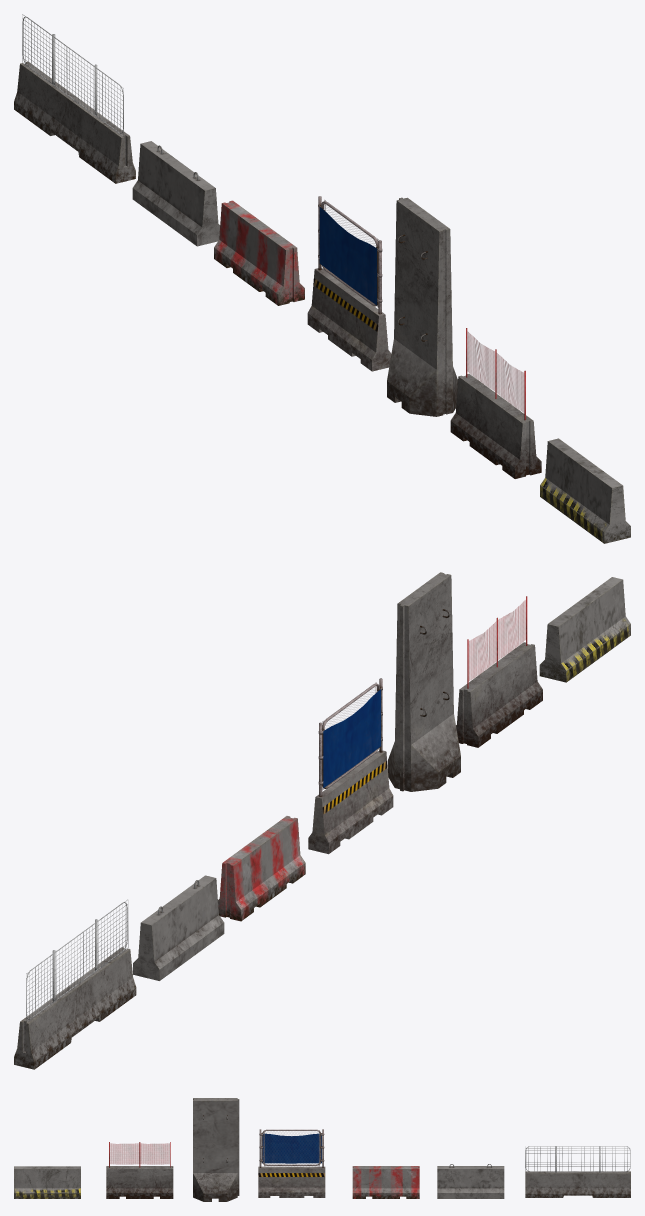
3 renders of one model, top to bottom at view 1: azimuth 30°, elevation 25°; view 2: azimuth 150°, elevation 25°; view 3: azimuth 270°, elevation 25°, orthographic. The views are drawn at different scales.
Parts seen in each view (by area): view 1: Cube.007, Cube.006, Cube.002, Cube.003, Cube.005, Cube.001, Cube.008, Plane.006, Plane, Cylinder.004, Cylinder.003; view 2: Cube.007, Cube.006, Cube.002, Cube.001, Cube.003, Cube.005, Cube.008, Plane.006, Plane, Cylinder.004, Cylinder.003; view 3: Cube.007, Cube.006, Cube.001, Cube.003, Cube.005, Cube.002, Cube.008, Plane.006, Plane, Cylinder.003, Cylinder.004, Plane.002 (+3 smaller).
Part boxes in pixels (bbox=[...]): Cube.007: bbox=[387, 197, 457, 416]; Cube.006: bbox=[14, 61, 135, 183]; Cube.002: bbox=[540, 438, 630, 543]; Cube.003: bbox=[214, 200, 304, 305]; Cube.005: bbox=[450, 373, 541, 478]; Cube.001: bbox=[132, 141, 220, 246]; Cube.008: bbox=[307, 268, 391, 371]; Plane.006: bbox=[319, 206, 377, 305]; Plane: bbox=[467, 331, 523, 412]; Cylinder.004: bbox=[22, 15, 123, 135]; Cylinder.003: bbox=[22, 14, 123, 135]; Cube.007: bbox=[388, 572, 460, 791]; Cube.006: bbox=[14, 947, 136, 1069]; Cube.002: bbox=[539, 577, 630, 682]; Cube.001: bbox=[133, 875, 224, 980]; Cube.003: bbox=[218, 816, 305, 921]; Cube.005: bbox=[456, 642, 542, 747]; Cube.008: bbox=[308, 750, 393, 854]; Plane.006: bbox=[323, 689, 381, 787]; Plane: bbox=[469, 600, 525, 680]; Cylinder.004: bbox=[26, 900, 128, 1021]; Cylinder.003: bbox=[26, 899, 127, 1021]; Cube.007: bbox=[193, 1098, 239, 1201]; Cube.006: bbox=[525, 1171, 630, 1197]; Cube.001: bbox=[437, 1166, 504, 1198]; Cube.003: bbox=[352, 1166, 419, 1198]; Cube.005: bbox=[106, 1166, 173, 1198]; Cube.002: bbox=[14, 1166, 80, 1198]; Cube.008: bbox=[258, 1166, 325, 1197]; Plane.006: bbox=[261, 1133, 321, 1163]; Plane: bbox=[110, 1143, 169, 1164]; Cylinder.003: bbox=[526, 1148, 630, 1166]; Cylinder.004: bbox=[525, 1146, 627, 1170]; Plane.002: bbox=[262, 1129, 321, 1165].
Bounding box in the file's own units: 0.5 × 1.75 × 10.19.
Materials: 7 (7 with a texture image).
